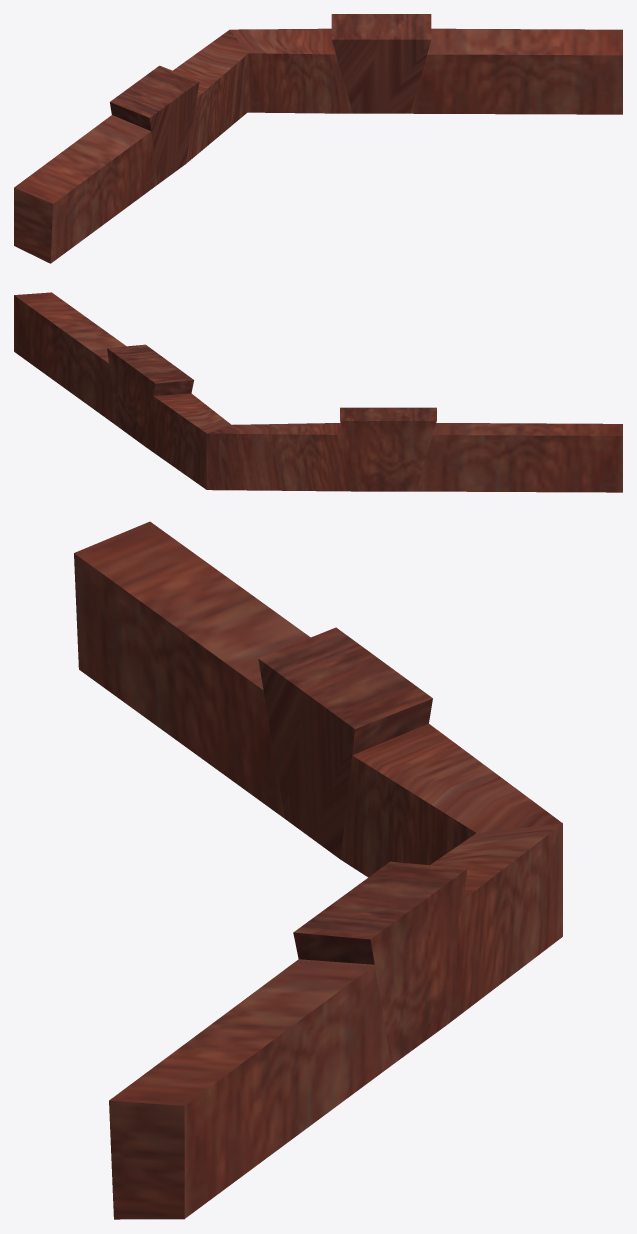
Rendered from cornerSupportPiece.fbx.
The picture shows the model from 3 angles, top to bottom: view 1: azimuth 30°, elevation 25°; view 2: azimuth 150°, elevation 25°; view 3: azimuth 270°, elevation 25°; orthographic projection. The views are drawn at different scales.
Visible parts, largest first — view 1: pCube59; view 2: pCube59; view 3: pCube59.
Boxes of the visible parts, x1,y1,x2,y2 form: pCube59: (14, 14, 622, 263); pCube59: (14, 292, 622, 492); pCube59: (74, 521, 562, 1219).
Size of the model in its own units: 1.02 by 0.1316 by 0.3591.
